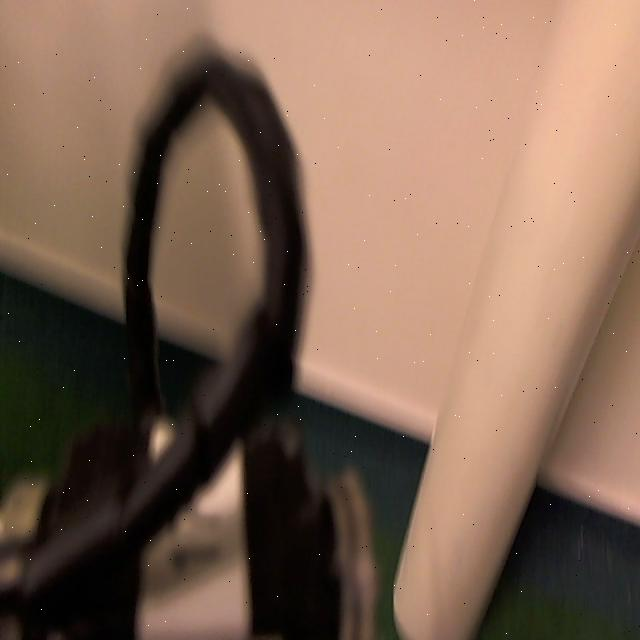goalpost: (391, 0, 637, 637)
